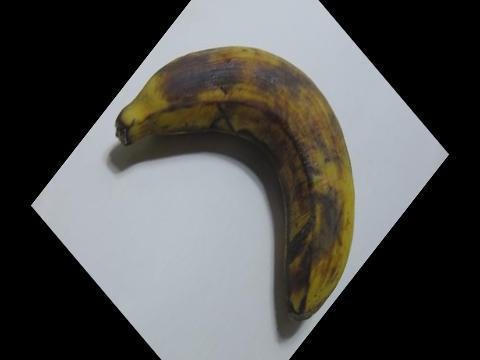rotten: (112, 41, 370, 337)
